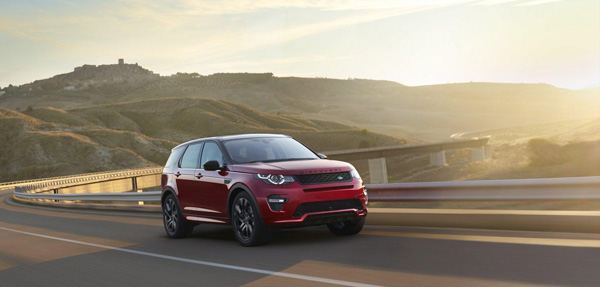front_view: (146, 22, 295, 88)
headlight: (157, 26, 215, 46)
